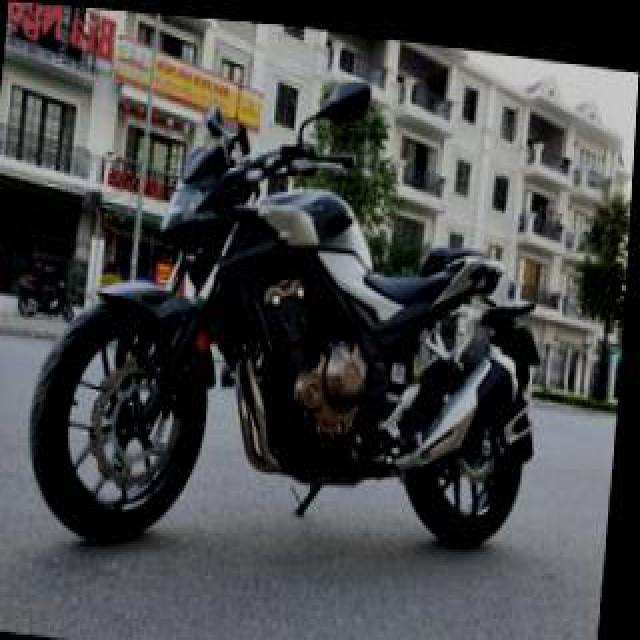CB500F: (24, 118, 558, 590)
